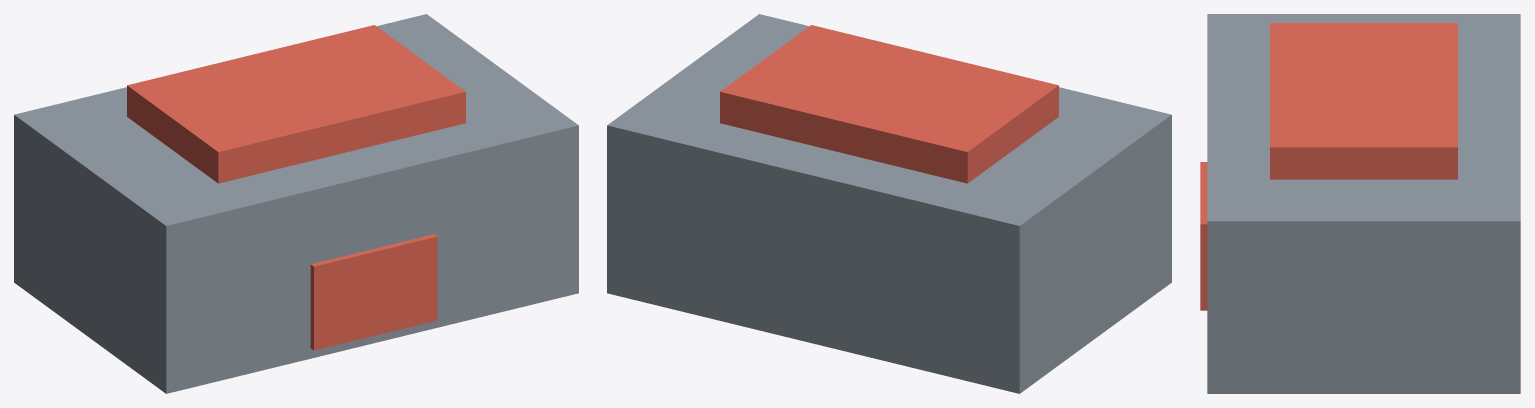
The model's file is SU_VoevodaHeavyTank_LOD0.glb.
3 views of the same model, side by side, from view 1: azimuth 30°, elevation 25°; view 2: azimuth 150°, elevation 25°; view 3: azimuth 270°, elevation 25° (orthographic). The views are drawn at different scales.
Parts seen in each view (by area): view 1: EntranceGate; view 2: EntranceGate; view 3: EntranceGate.
Boxes of the visible parts, x1=… form: EntranceGate: x1=14, y1=14, x2=578, y2=393; EntranceGate: x1=607, y1=14, x2=1171, y2=393; EntranceGate: x1=1200, y1=14, x2=1520, y2=393.
Bounding box in the file's own units: 720 × 333 × 470.
